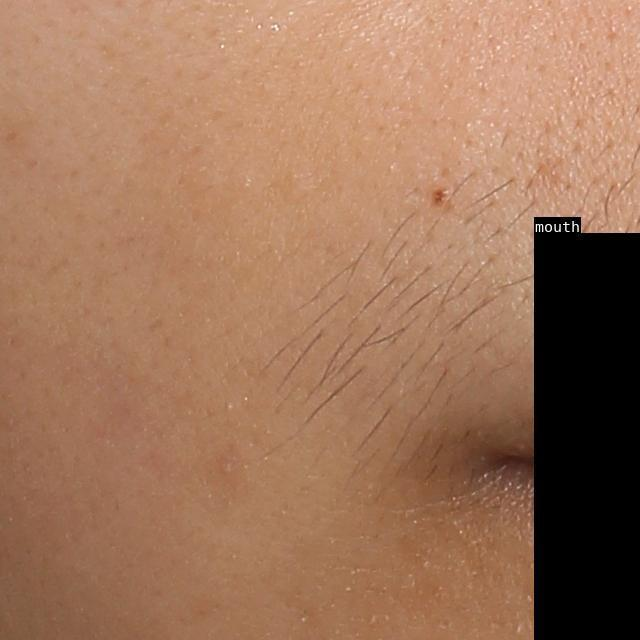nevus: (431, 178, 455, 209)
